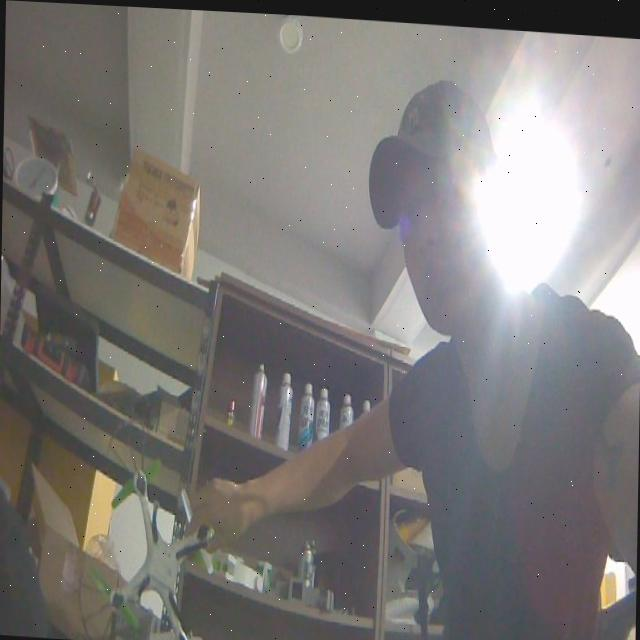drone: (75, 408, 242, 640)
